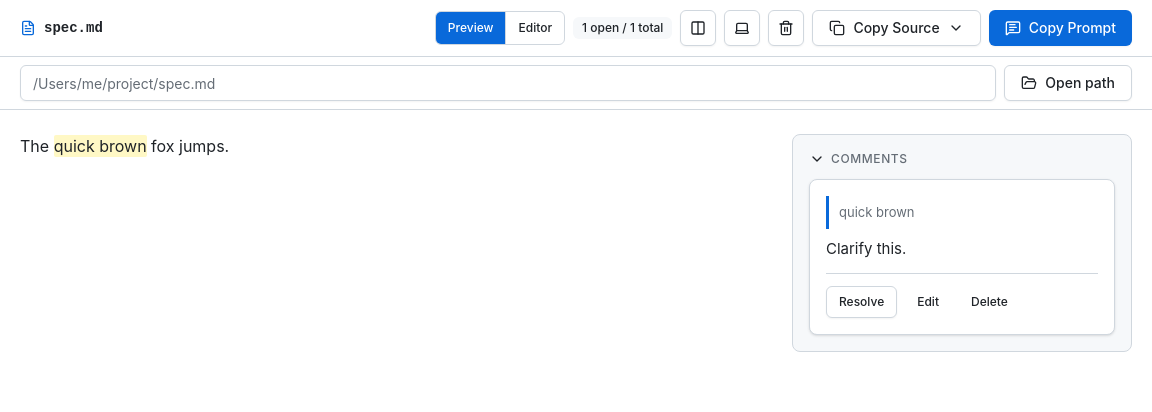
Test: App edit comment › saves on Cmd+Enter
Expected: the text "Clarify this." is shown, [826,239,906,258]
Click the button "Edit": (928, 302) [905,286,951,318]
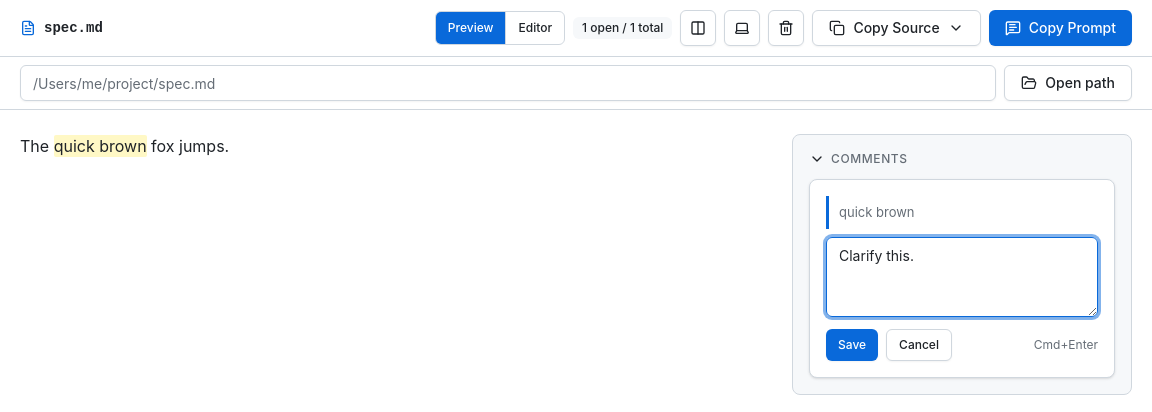
Replace the text in the text box showing "Clarify this." with "Via shortcut": (962, 277) [826,237,1098,317]
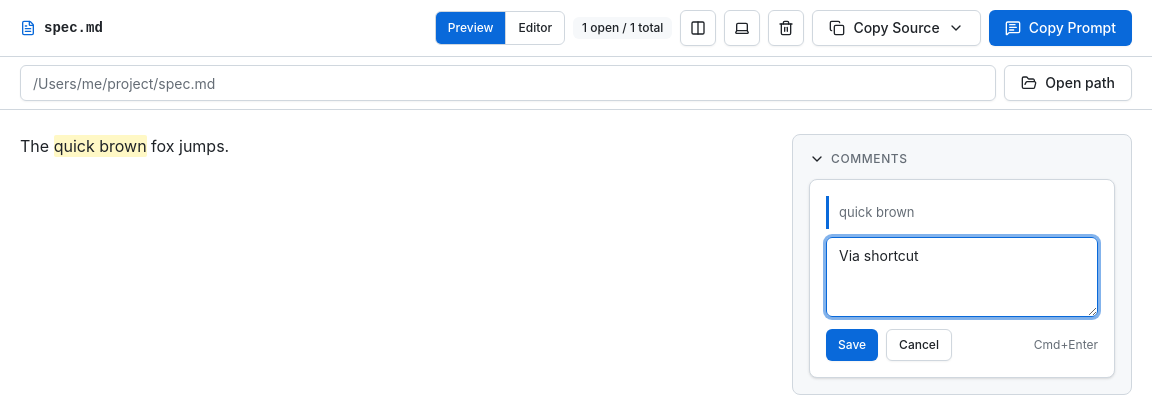
Press Enter in the text box showing "Clarify this.", box [826,237,1098,317]
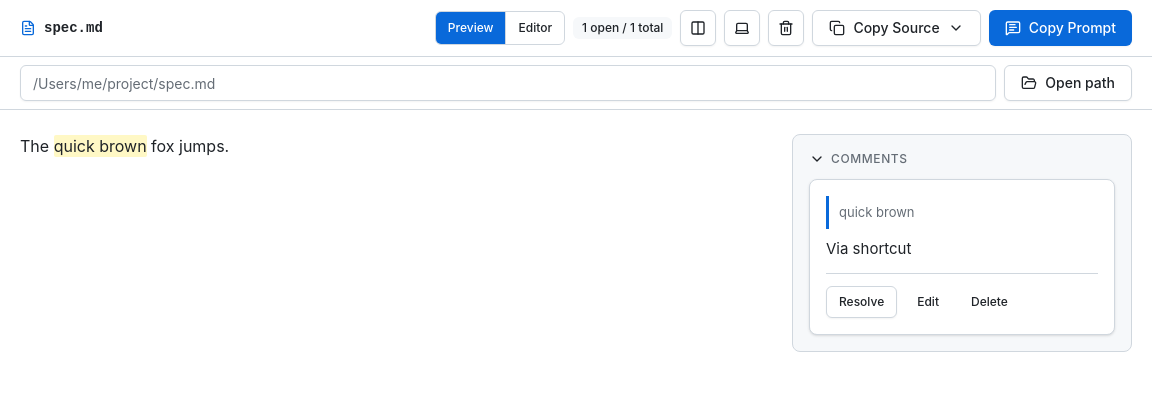
Expected: the text "Via shortcut" is shown, [826,239,911,258]
